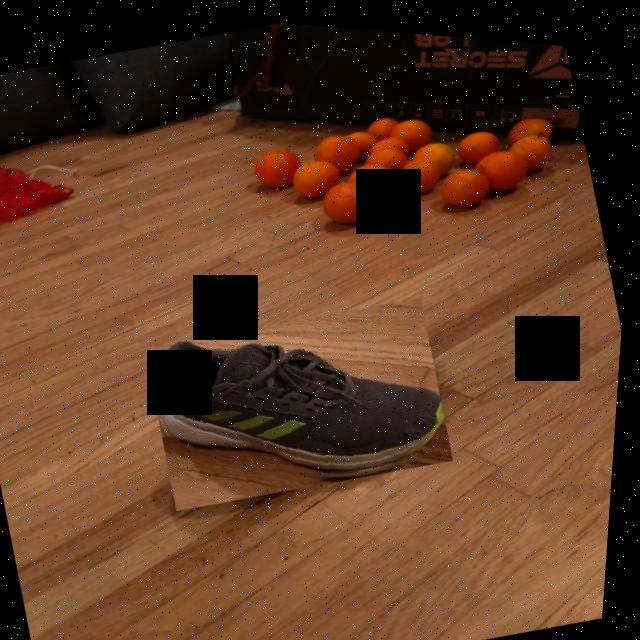shoe: (141, 272, 467, 524)
